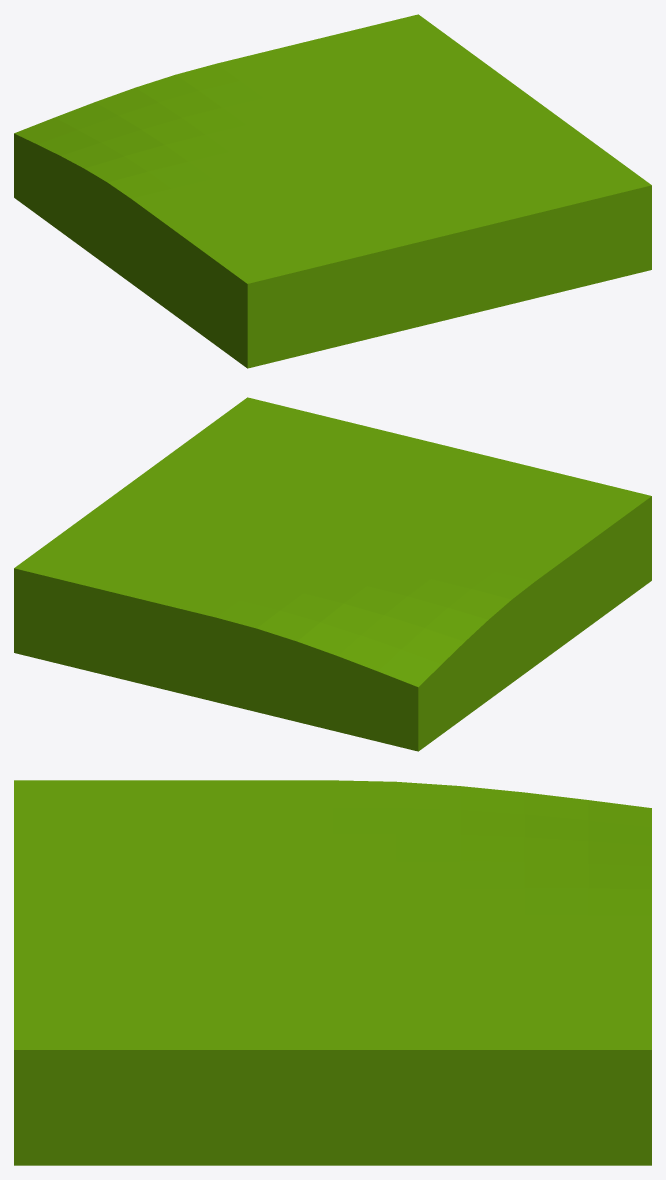
The model's file is TileGround_40.fbx.
3 views of the same model, one above another, from view 1: azimuth 30°, elevation 25°; view 2: azimuth 150°, elevation 25°; view 3: azimuth 270°, elevation 25° (orthographic). The views are drawn at different scales.
Visible parts, largest first — view 1: TileGround_40; view 2: TileGround_40; view 3: TileGround_40.
Boxes of the visible parts, bbox=[...] form: TileGround_40: bbox=[14, 14, 651, 368]; TileGround_40: bbox=[14, 397, 651, 751]; TileGround_40: bbox=[14, 780, 651, 1165].
Size of the model in its own units: 500 by 100 by 500.
